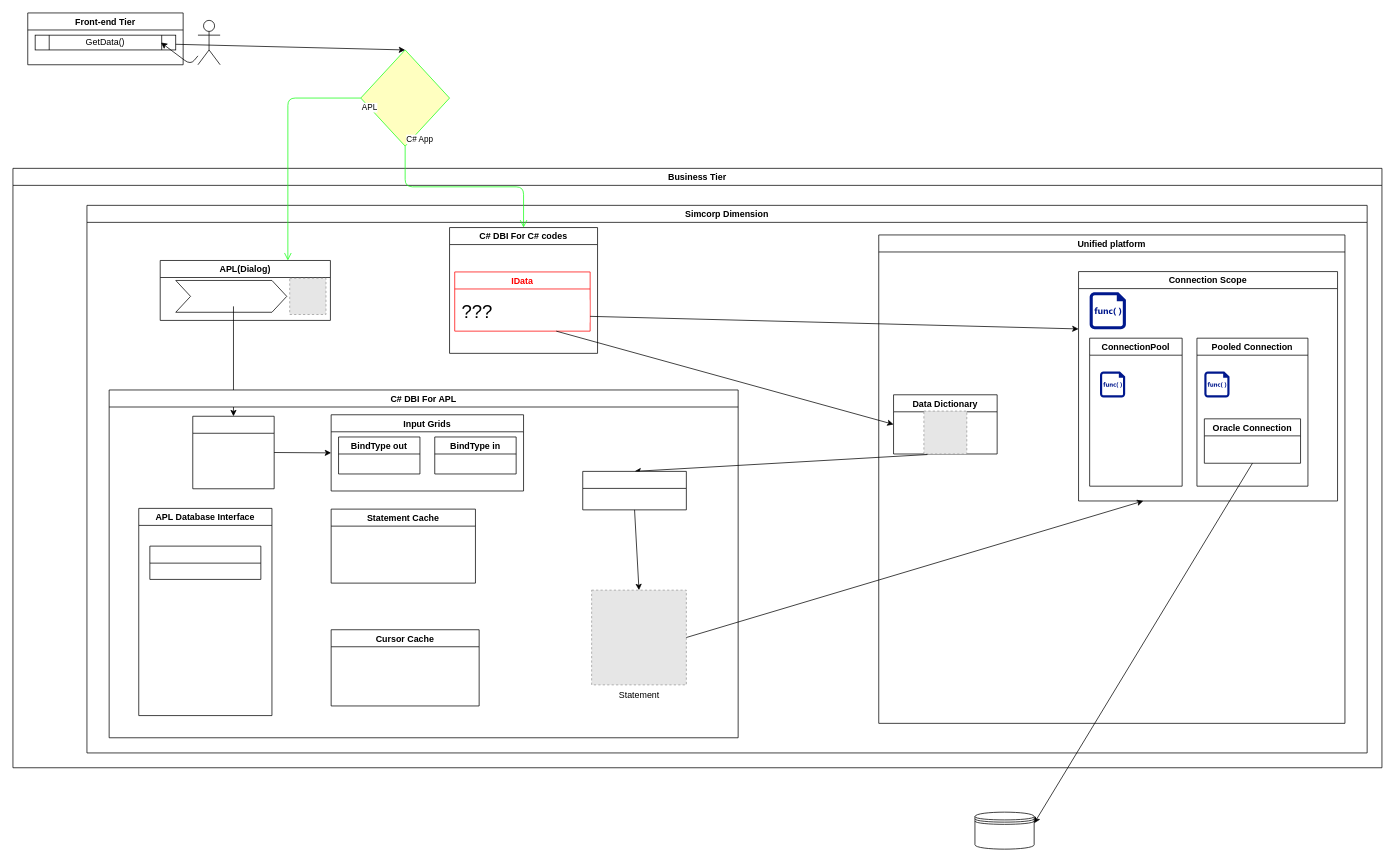
This 1395x862 diagram has some shape labels left out. Grey dashed boxes stand in for pictures. The shapes that lost their labels are listed below. From the top down, each one's centre as x and y in pixels, then its label:
At pixel 208 42: "Actor".
At pixel 405 97: "Get data from APL OR C#".
At pixel 231 296: "APLCommand : 123| 23| '>'| 50".
At pixel 541 311: "Go To Question page".
At pixel 233 452: "High level DWA".
At pixel 634 490: "Query Builder".
At pixel 205 562: "DBSelect".
At pixel 1004 830: "Oracle DB".
